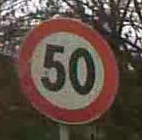limite 50: (15, 13, 119, 129)
